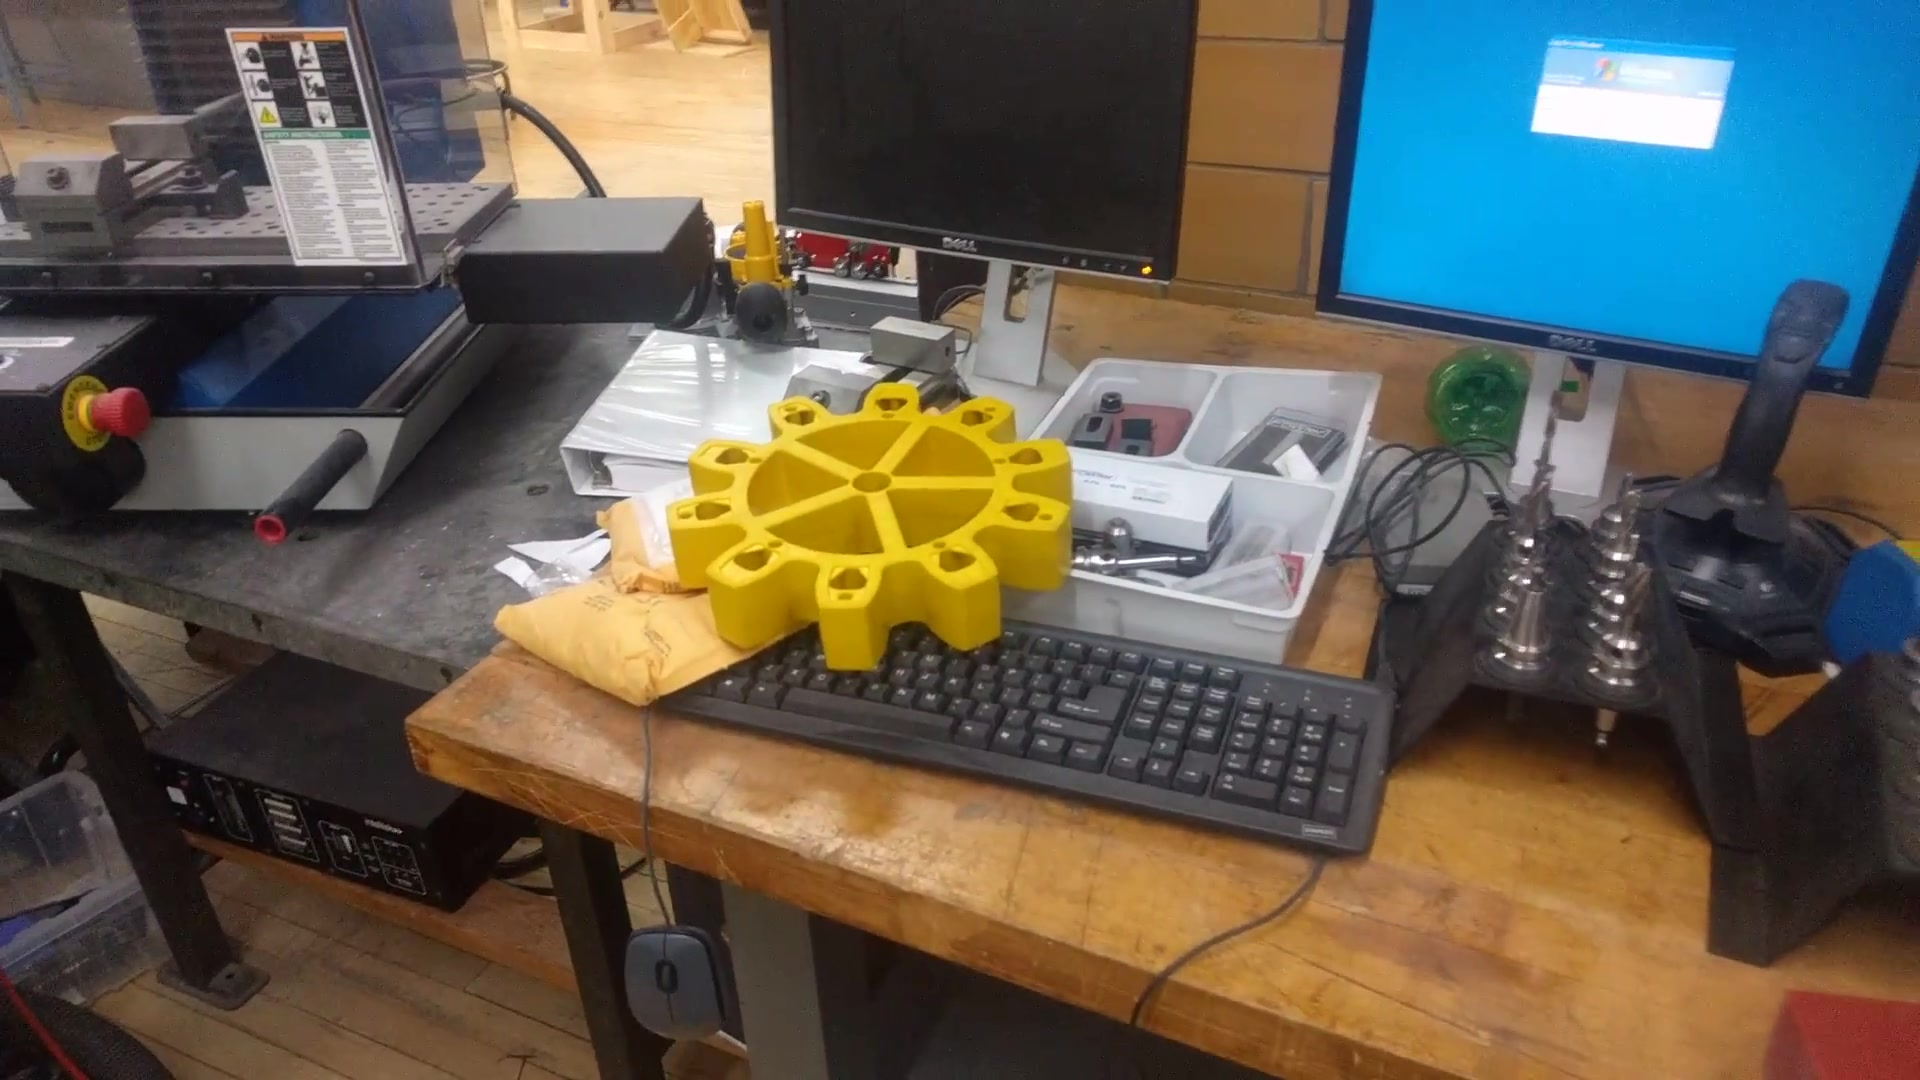gear: (661, 365, 1077, 676)
